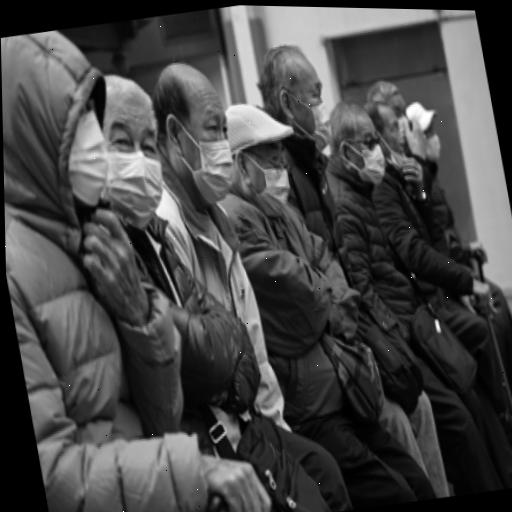mask: (93, 108, 173, 234), (171, 95, 241, 208), (55, 92, 118, 211), (283, 69, 337, 158), (244, 147, 295, 221), (342, 126, 389, 192), (378, 114, 409, 175), (390, 99, 411, 143), (421, 126, 444, 163)
